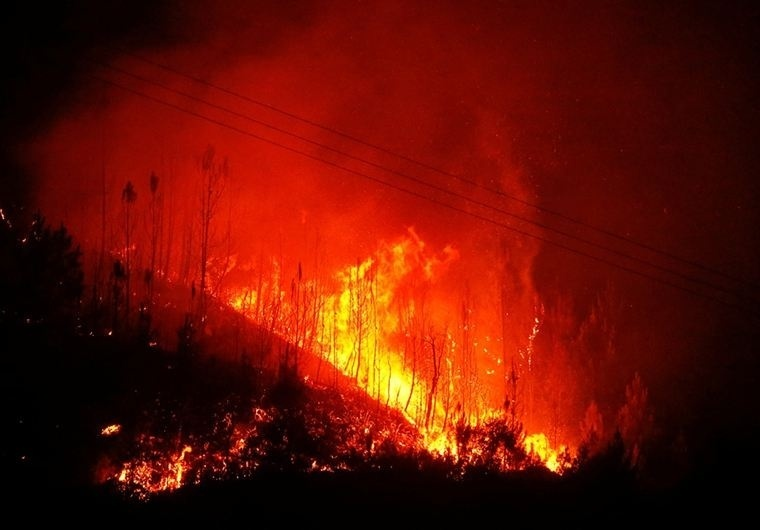fire: (209, 224, 575, 471), (100, 405, 278, 495)
